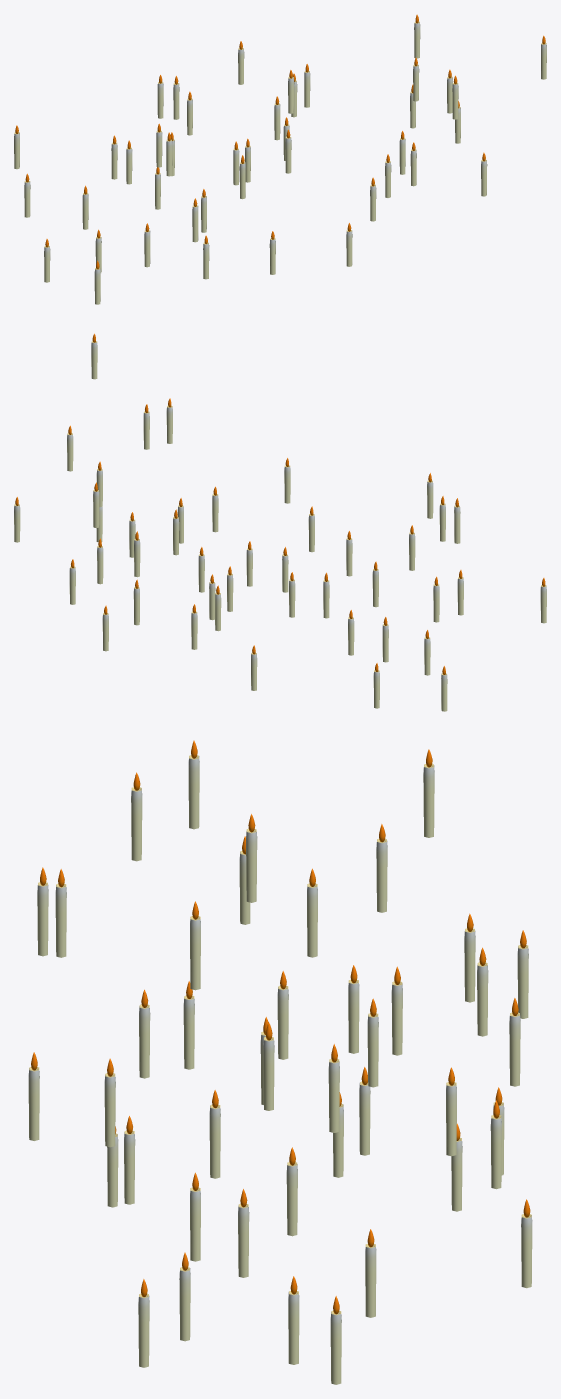
The model's file is BgMD_candles.fbx.
The picture shows the model from 3 angles, top to bottom: view 1: azimuth 30°, elevation 25°; view 2: azimuth 150°, elevation 25°; view 3: azimuth 270°, elevation 25°; orthographic projection. The views are drawn at different scales.
Parts seen in each view (by area): view 1: Bg_candles; view 2: Bg_candles; view 3: Bg_candles.
Boxes of the visible parts, x1,y1,x2,y2 form: Bg_candles: [14, 14, 546, 304]; Bg_candles: [14, 333, 546, 711]; Bg_candles: [28, 740, 532, 1384].
Size of the model in its own units: 906 by 427 by 444.
Materials: 1 (1 with a texture image).
